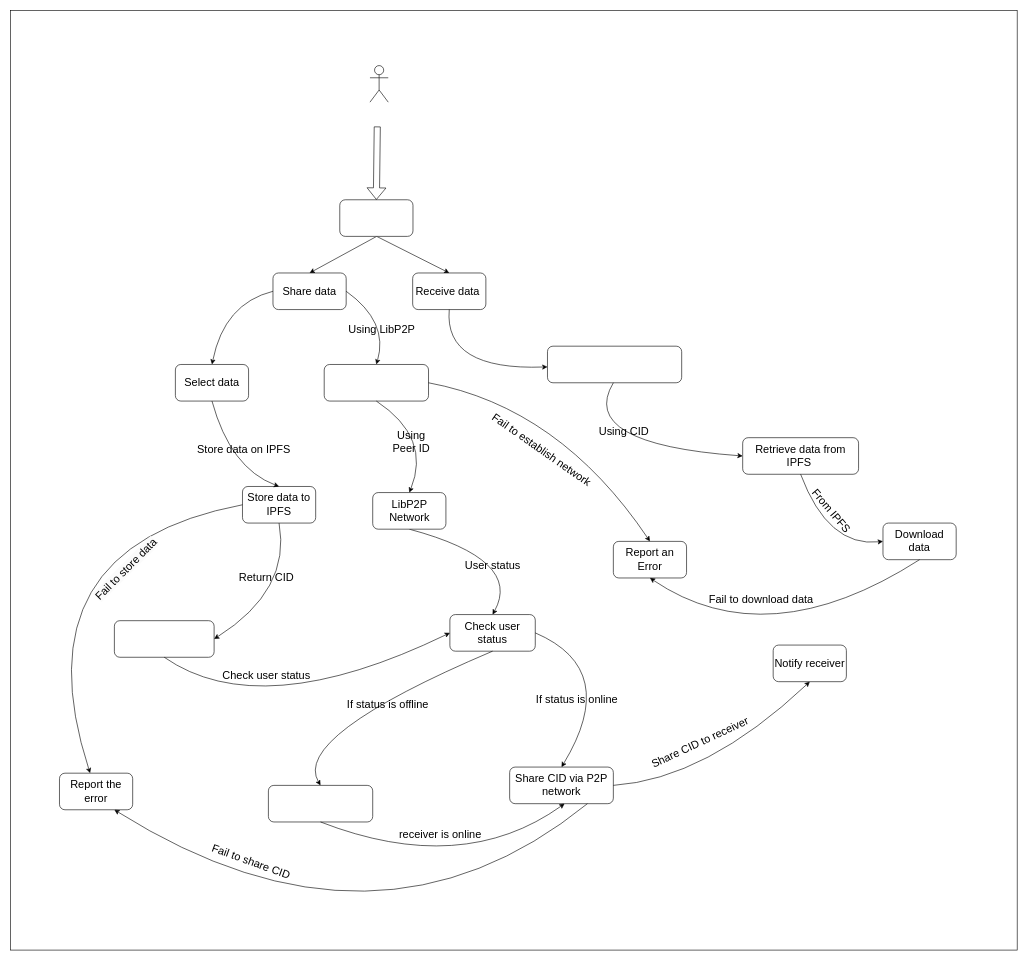
This 1028x961 diagram has some shape labels left out. The box of each missing label's shape, as (x1, y1, x2, y2) in pixels:
Authenticate User: (339, 199, 413, 236)
Establish P2P connection: (324, 364, 429, 401)
Receive the CID of data: (547, 346, 682, 383)
Share the CID of the stored data: (114, 620, 214, 657)
Store CID in message Queue: (268, 785, 373, 822)
User: (369, 65, 388, 102)
